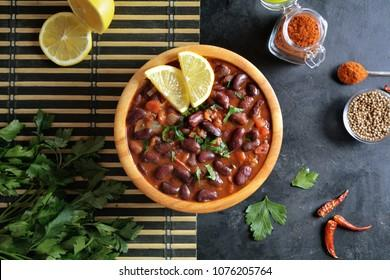rajma: (128, 72, 272, 193)
